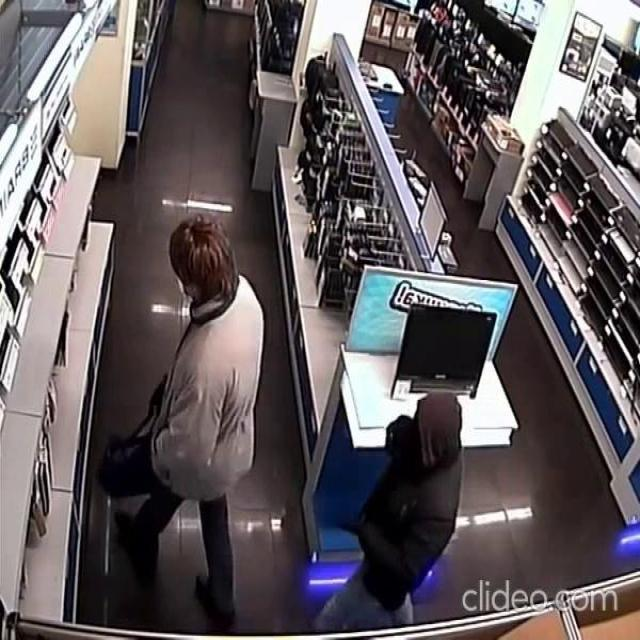pistol: (330, 514, 367, 538)
